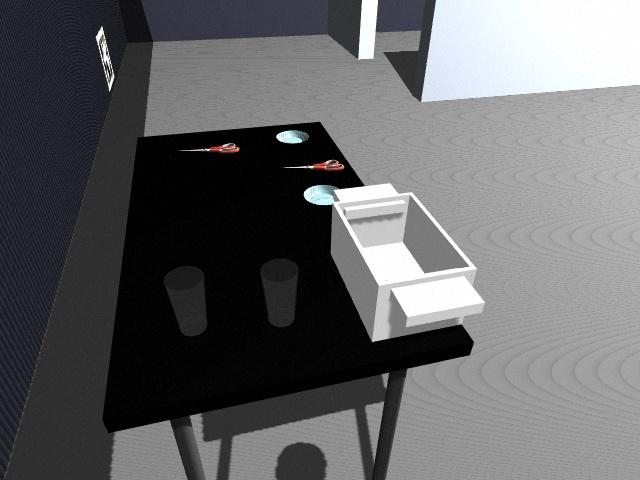cup: (163, 265, 207, 335), (260, 259, 299, 327)
plate: (303, 183, 340, 206), (275, 130, 309, 144)
scissors: (283, 160, 344, 172), (180, 143, 239, 154)
